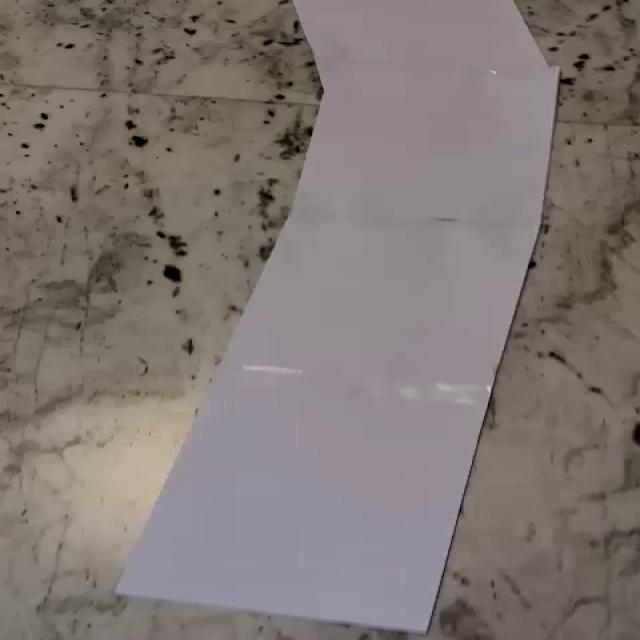road: (115, 0, 560, 638)
